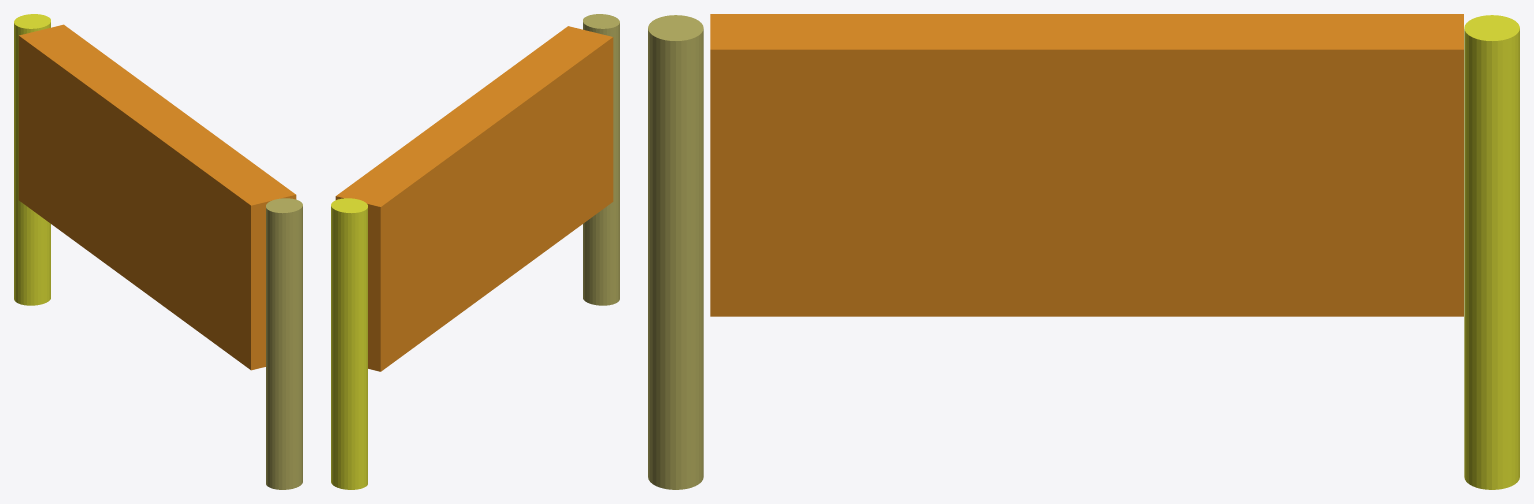
3 views of the same model, side by side, from view 1: azimuth 30°, elevation 25°; view 2: azimuth 150°, elevation 25°; view 3: azimuth 270°, elevation 25° (orthographic). The views are drawn at different scales.
Parts seen in each view (by area): view 1: Cube, Cylinder, Cylinder.001; view 2: Cube, Cylinder.001, Cylinder; view 3: Cube, Cylinder, Cylinder.001.
Boxes of the visible parts, x1,y1,x2,y2 form: Cube: (18, 24, 296, 370); Cylinder: (266, 198, 302, 489); Cylinder.001: (14, 14, 50, 305); Cube: (335, 26, 613, 371); Cylinder.001: (331, 198, 367, 489); Cylinder: (583, 14, 619, 305); Cube: (710, 14, 1463, 316); Cylinder: (648, 15, 703, 489); Cylinder.001: (1464, 15, 1519, 489).
Bounding box in the file's own units: 200 × 1174 × 2068.
